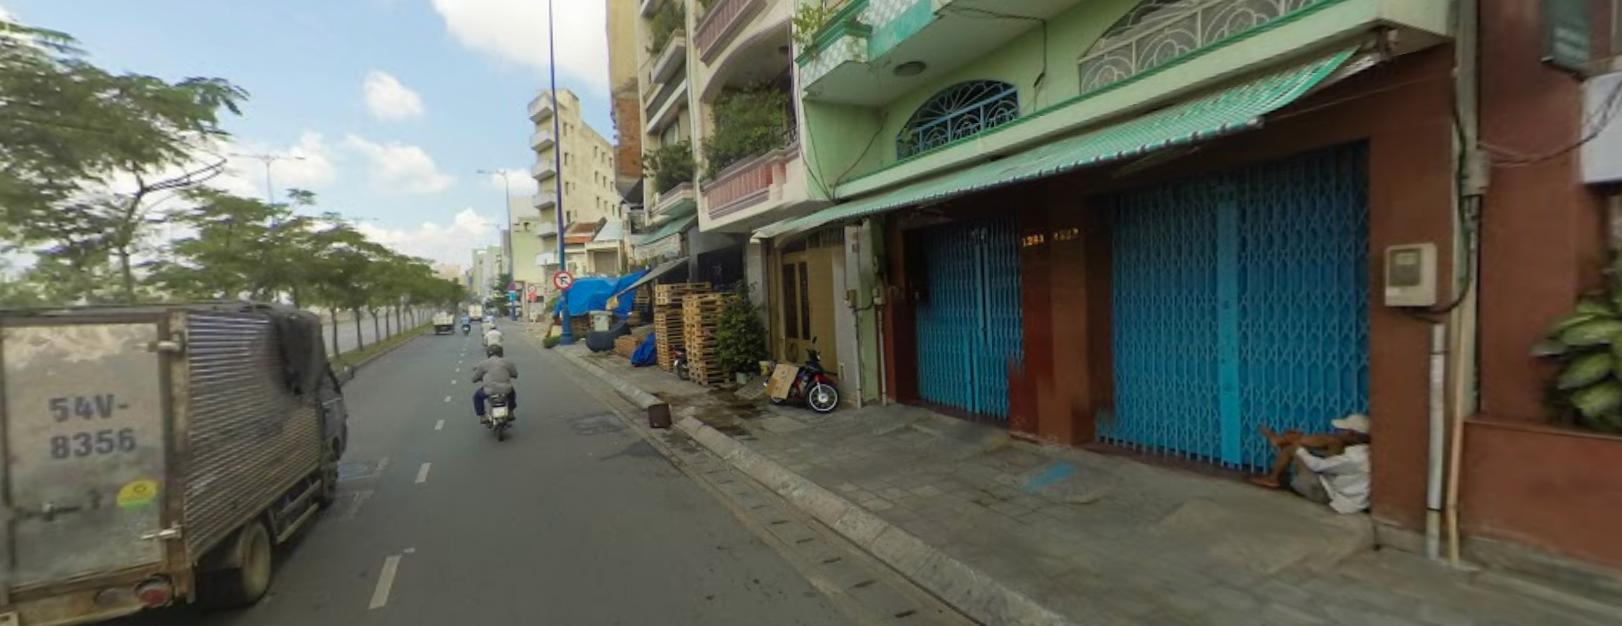Cam con lai: (527, 284, 535, 291), (528, 284, 536, 290)
Cam dung va do: (507, 281, 515, 289), (507, 280, 514, 288)
Cam re: (554, 269, 574, 287), (554, 270, 573, 288)
